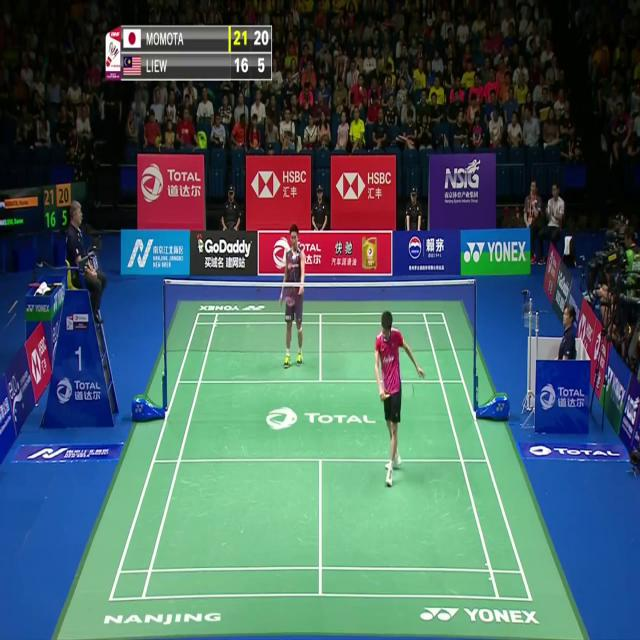Shuttlecock: (290, 252, 297, 264)
